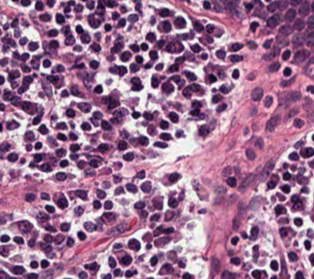nucleus: (260, 161, 273, 180), (266, 115, 279, 131), (18, 220, 32, 232), (241, 174, 254, 186), (264, 48, 278, 59), (21, 102, 35, 113), (108, 224, 125, 233), (42, 82, 51, 97), (251, 88, 262, 100), (128, 239, 140, 250), (159, 264, 172, 274), (162, 82, 173, 93), (152, 197, 162, 209), (211, 257, 219, 272), (9, 70, 19, 81), (108, 97, 118, 108), (57, 197, 67, 208), (84, 221, 95, 231), (120, 255, 131, 265), (78, 103, 90, 112), (102, 212, 114, 221), (250, 226, 258, 239), (120, 51, 130, 61), (199, 125, 209, 135), (185, 71, 196, 80), (7, 120, 18, 129), (246, 148, 255, 159), (141, 181, 150, 192), (75, 190, 86, 199), (40, 243, 51, 252), (155, 238, 169, 245), (65, 35, 74, 45), (269, 62, 279, 71), (17, 84, 27, 93), (222, 166, 231, 176), (169, 173, 179, 182), (126, 183, 136, 192), (275, 205, 285, 214), (264, 96, 272, 107), (37, 212, 48, 220), (13, 266, 24, 274), (230, 43, 242, 50), (85, 262, 97, 269), (146, 32, 155, 41), (166, 43, 175, 52), (25, 131, 34, 140), (139, 136, 148, 145), (118, 140, 127, 149), (168, 198, 177, 207), (74, 206, 83, 215), (154, 226, 163, 235), (54, 234, 63, 243), (81, 33, 89, 43), (90, 43, 100, 51), (183, 87, 191, 97), (169, 112, 177, 122), (101, 121, 111, 129), (255, 138, 263, 148), (123, 152, 133, 160), (7, 153, 17, 161), (40, 163, 50, 171), (56, 172, 66, 180), (25, 193, 35, 201), (165, 210, 173, 220), (270, 260, 278, 270), (222, 271, 235, 277), (47, 75, 58, 82), (151, 76, 158, 87), (189, 84, 200, 91), (263, 39, 271, 48), (28, 42, 37, 50), (191, 44, 200, 52), (216, 50, 225, 58), (230, 55, 242, 61), (21, 64, 30, 72), (118, 66, 126, 75), (23, 76, 32, 84), (3, 91, 11, 100), (81, 122, 90, 130), (39, 125, 47, 134), (34, 153, 42, 162), (89, 159, 98, 167), (270, 174, 278, 183), (227, 177, 235, 186), (60, 223, 69, 231), (44, 234, 53, 242), (31, 57, 38, 67), (216, 104, 226, 111), (56, 122, 66, 129), (160, 133, 170, 140), (98, 144, 108, 151), (215, 186, 225, 193), (134, 201, 144, 208), (108, 257, 115, 267), (230, 257, 240, 264), (233, 218, 239, 229), (154, 142, 167, 147), (50, 40, 58, 48), (175, 43, 183, 51), (149, 51, 157, 59), (208, 74, 216, 82), (94, 85, 102, 93), (220, 85, 228, 93), (71, 87, 79, 95), (66, 109, 74, 117), (114, 111, 122, 119), (32, 116, 40, 124), (160, 120, 168, 128), (136, 170, 144, 178), (97, 190, 105, 198), (104, 201, 112, 209), (77, 231, 85, 239), (48, 29, 57, 36), (111, 45, 120, 52), (89, 61, 98, 68), (109, 66, 118, 73), (190, 108, 199, 115), (93, 111, 102, 118), (57, 133, 66, 140), (70, 144, 79, 151), (56, 149, 65, 156), (114, 187, 123, 194), (45, 205, 54, 212), (14, 236, 23, 243), (150, 256, 157, 265), (132, 84, 142, 90), (45, 225, 55, 231), (163, 227, 173, 233), (248, 41, 256, 48), (130, 44, 138, 51), (20, 53, 28, 60), (43, 59, 50, 67), (155, 63, 163, 70), (130, 64, 138, 71), (169, 64, 177, 71), (131, 77, 139, 84), (212, 95, 220, 102), (11, 97, 19, 104), (144, 113, 152, 120), (1, 143, 9, 150), (267, 181, 275, 188), (277, 193, 285, 200), (93, 200, 100, 208), (140, 210, 147, 218), (1, 235, 9, 242), (231, 236, 238, 244), (252, 270, 260, 277), (175, 57, 184, 63), (232, 69, 238, 78), (171, 75, 180, 81), (148, 125, 154, 134), (85, 169, 94, 175), (150, 214, 159, 220), (20, 37, 27, 44), (157, 40, 164, 47), (140, 43, 147, 50), (135, 55, 142, 62), (41, 260, 48, 267), (30, 261, 37, 268), (125, 270, 132, 277), (192, 101, 200, 107), (132, 112, 140, 118), (69, 133, 77, 139), (41, 193, 49, 199), (67, 238, 73, 246), (1, 247, 7, 255), (8, 39, 14, 46), (74, 45, 81, 51), (13, 52, 20, 58), (1, 58, 7, 65), (56, 65, 63, 71), (61, 90, 68, 96), (35, 142, 41, 149), (60, 160, 67, 166), (78, 161, 84, 168), (113, 176, 120, 182), (28, 239, 34, 246), (201, 53, 207, 59), (103, 97, 109, 103), (176, 131, 182, 137), (103, 181, 109, 187), (178, 261, 184, 267), (114, 269, 120, 275), (70, 154, 77, 159), (79, 272, 86, 277), (75, 63, 83, 67), (145, 63, 151, 68), (15, 30, 19, 37), (247, 74, 254, 78), (114, 244, 121, 248), (26, 145, 31, 150), (0, 76, 3, 84), (253, 245, 257, 251), (108, 56, 113, 60), (12, 82, 16, 87), (21, 158, 25, 163), (0, 104, 3, 110), (114, 163, 120, 166), (242, 233, 246, 237), (146, 244, 150, 248)
